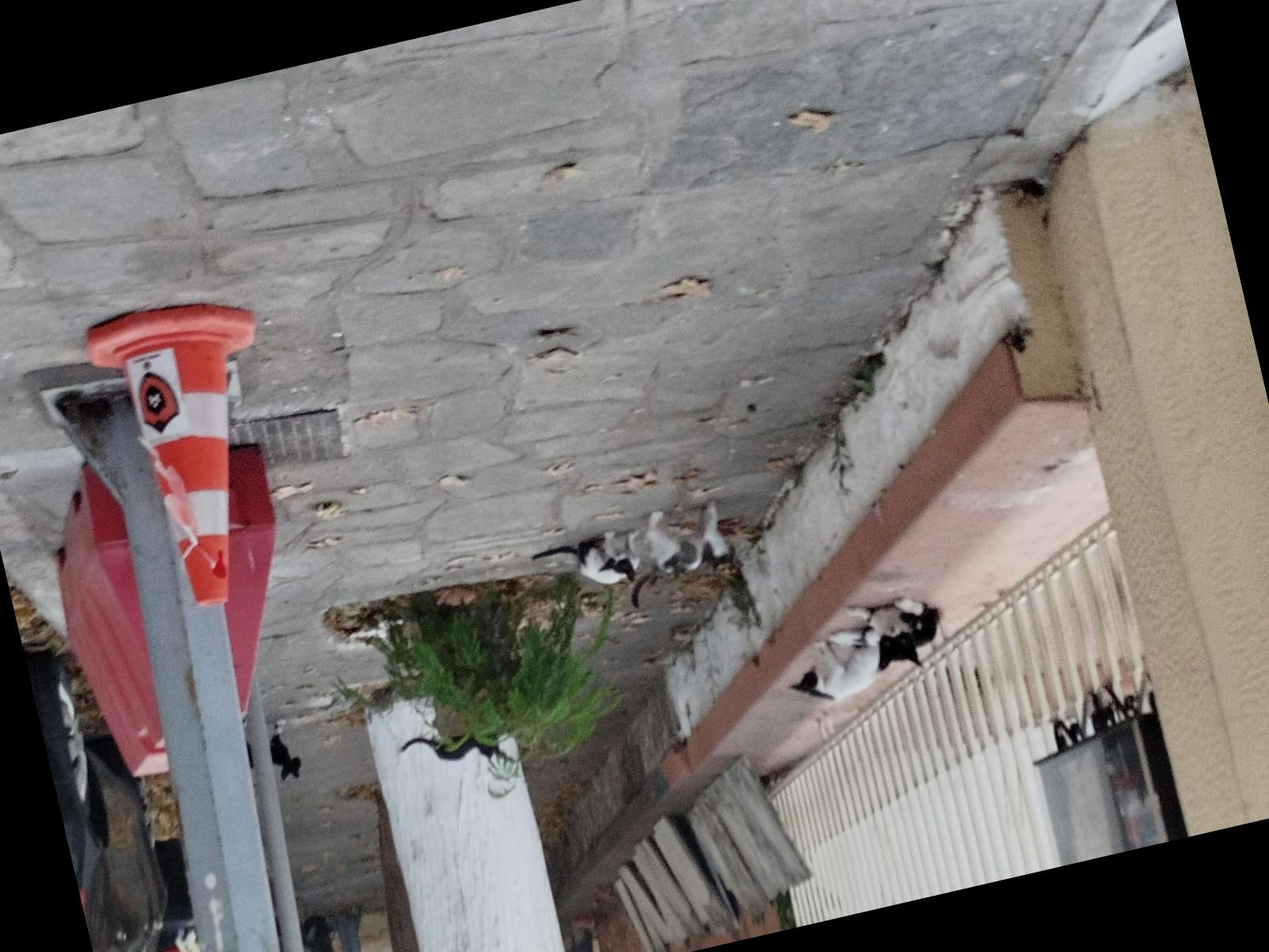macka: (612, 494, 742, 609), (820, 587, 953, 688), (529, 524, 648, 602), (780, 627, 888, 710), (398, 720, 503, 779), (264, 718, 307, 784)
